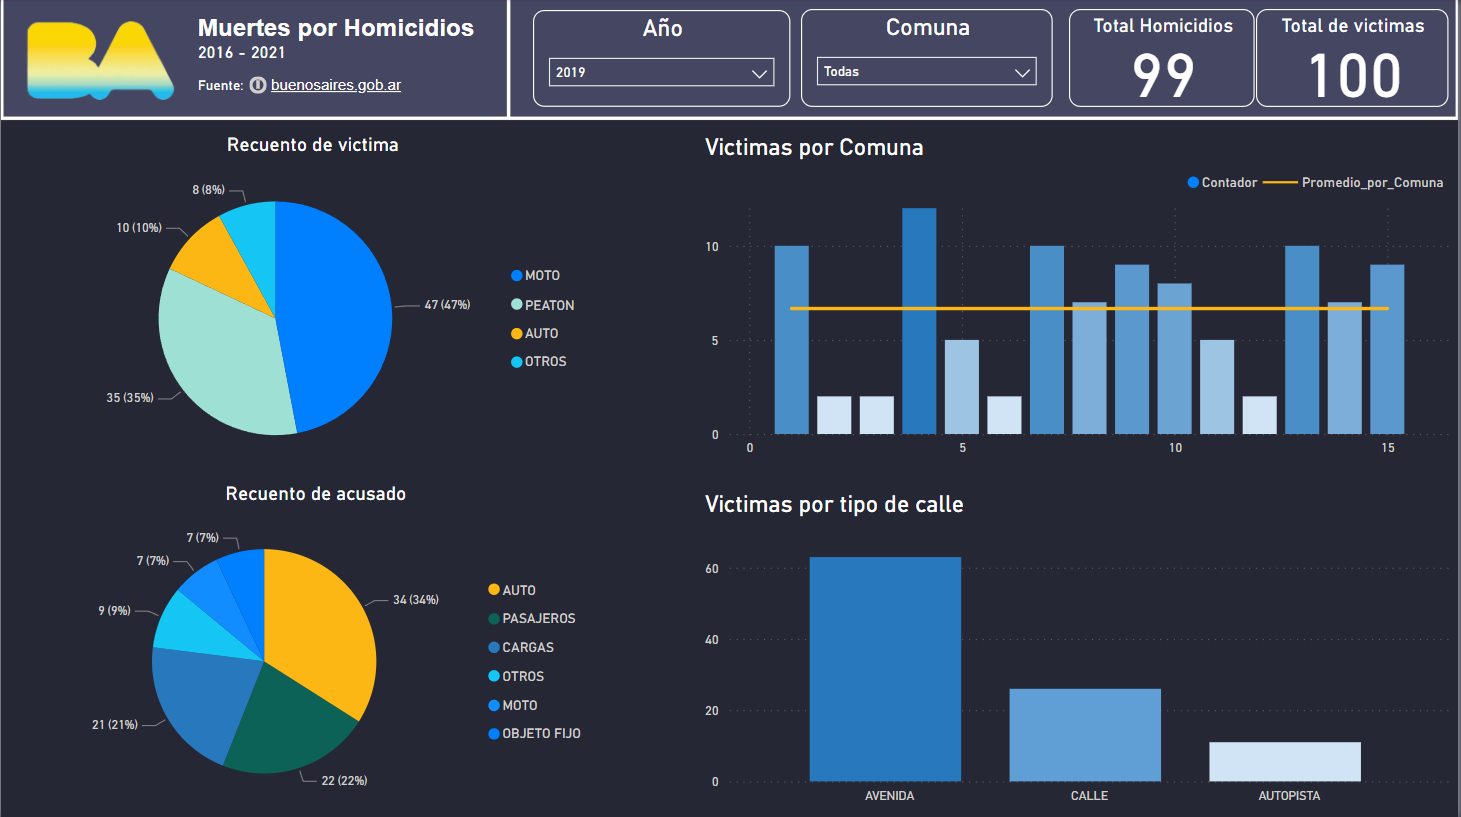

Layout of this report page (visuals, bound fields, positions):
{"tool":"powerbi","page":{"name":"Victima-Acusado","canvas":[1280,720],"ordinal":3},"visuals":[{"type":"pieChart","title":"Recuento de victima","fields":{"Category":["homicidios.victima_resumida"],"Y":["homicidios.Contador"]},"box":[29.9,117.7,488.2,306.4],"z":0},{"type":"slicer","title":"Tipo de Calle","fields":{"Values":["homicidios.tipo_calle"]},"box":[467.1,9.7,225.7,85.2],"z":1000},{"type":"columnChart","title":"Victimas por Comuna","fields":{"Category":["homicidios.comuna"],"Y":["homicidios.Contador"]},"box":[609.4,117.7,667.3,306.4],"z":2000},{"type":"columnChart","title":"Victimas por tipo de calle","fields":{"Category":["homicidios.tipo_calle"],"Y":["CountNonNull(homicidios.tipo_calle)"]},"box":[612.9,431.1,663.8,281.9],"z":3000},{"type":"pieChart","title":"Recuento de acusado","fields":{"Y":["homicidios.Contador"],"Category":["homicidios.acusado_resumida"]},"box":[29.9,424.1,493.5,295.9],"z":4000},{"type":"textbox","box":[167.7,8.8,265.2,89.6],"z":5000},{"type":"image","box":[17.6,9.7,140.5,88.7],"z":6000},{"type":"actionButton","box":[214.2,64.1,150.1,22.8],"z":7000},{"type":"slicer","title":"Comuna","fields":{"Values":["homicidios.comuna"]},"box":[702.4,8.8,221.3,86],"z":8000},{"type":"card","title":"Total de victimas","fields":{"Values":["homicidios.Contador"]},"box":[1102,8.8,168.6,86],"z":9000},{"type":"card","title":"Total Homicidios","fields":{"Values":["Count(homicidios.ID)"]},"box":[937.8,8.8,163.3,86],"z":10000}]}

Visuals, with their boxes in screenshot pixels (x1, y1, x2, y2), scaled from the page's 1280x720 canvas onto the 1461x817 screenshot:
"Recuento de victima" pieChart: pyautogui.locateOnScreen(34, 134, 591, 481)
"Tipo de Calle" slicer: pyautogui.locateOnScreen(533, 11, 791, 108)
"Victimas por Comuna" columnChart: pyautogui.locateOnScreen(696, 134, 1457, 481)
"Victimas por tipo de calle" columnChart: pyautogui.locateOnScreen(700, 489, 1457, 809)
"Recuento de acusado" pieChart: pyautogui.locateOnScreen(34, 481, 597, 816)
textbox: pyautogui.locateOnScreen(191, 10, 494, 112)
image: pyautogui.locateOnScreen(20, 11, 180, 112)
actionButton: pyautogui.locateOnScreen(244, 73, 416, 99)
"Comuna" slicer: pyautogui.locateOnScreen(802, 10, 1054, 108)
"Total de victimas" card: pyautogui.locateOnScreen(1258, 10, 1450, 108)
"Total Homicidios" card: pyautogui.locateOnScreen(1070, 10, 1257, 108)
